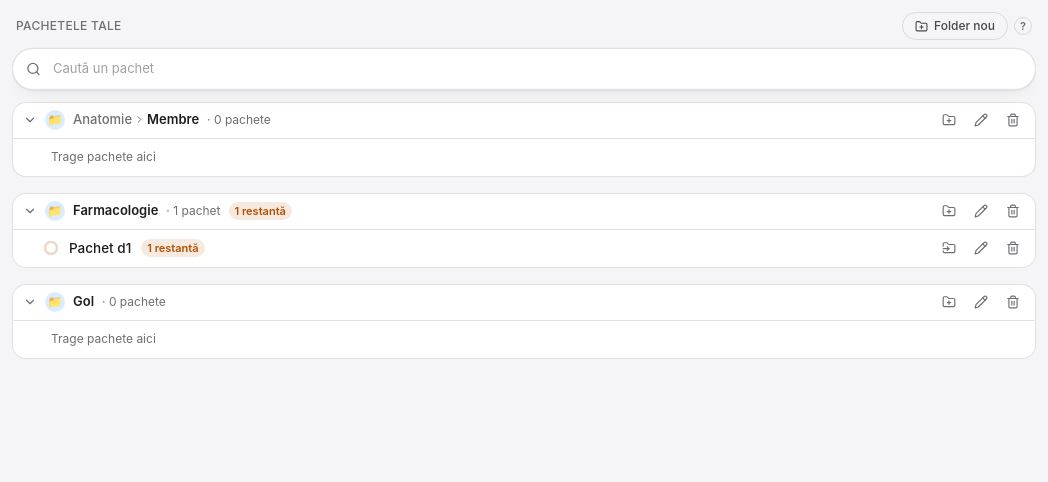
Test: „Mută în…” › mută un pachet din meniu, cu toast și cu folderul-țintă deschis
The width and height of the screenshot is (1048, 482).
Click the button named "Mută pachetul Pachet d1 în…": [949, 248] box [933,232,965,264]
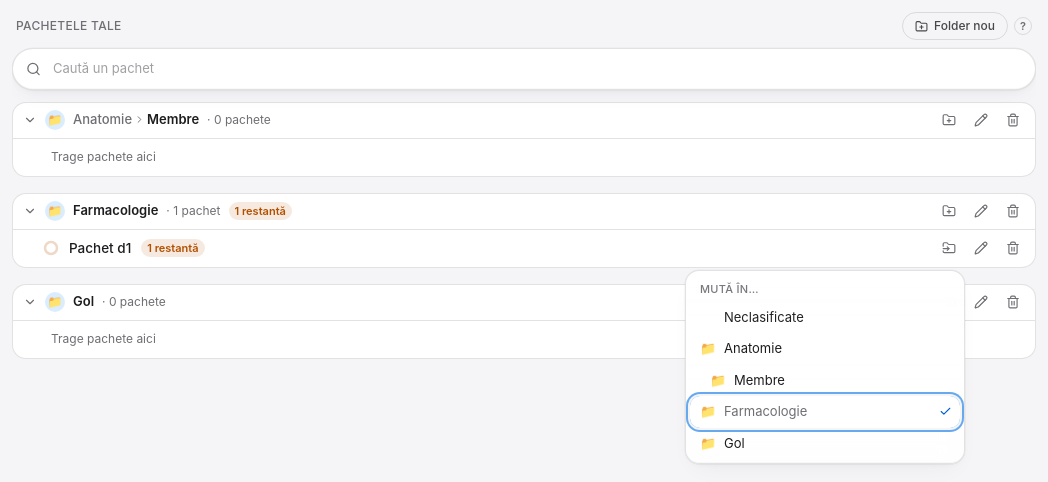
expect the menu item with aria-label "Anatomie / Membre" is shown: met
Click the menu item with aria-label "Anatomie / Membre": [759, 380] box [690,364,960,396]
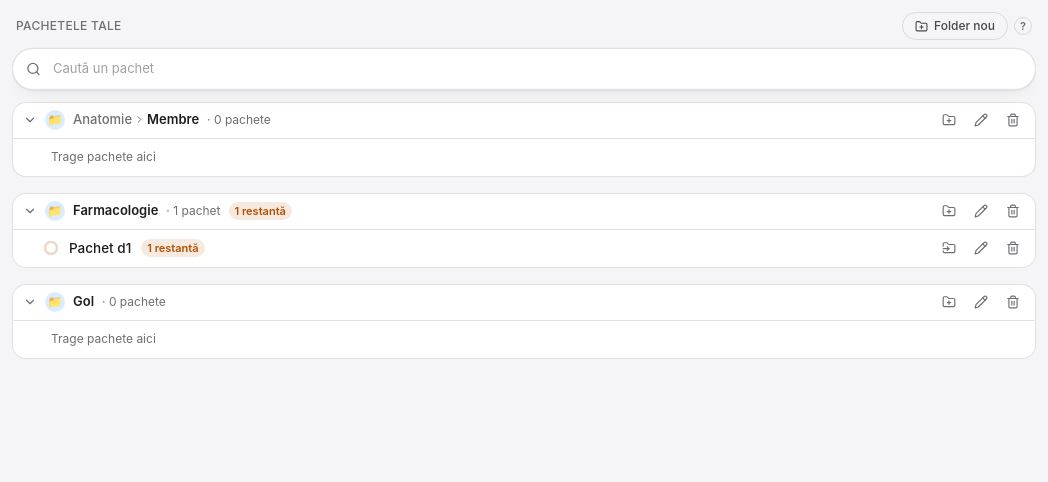
expect the menu is gone: met
